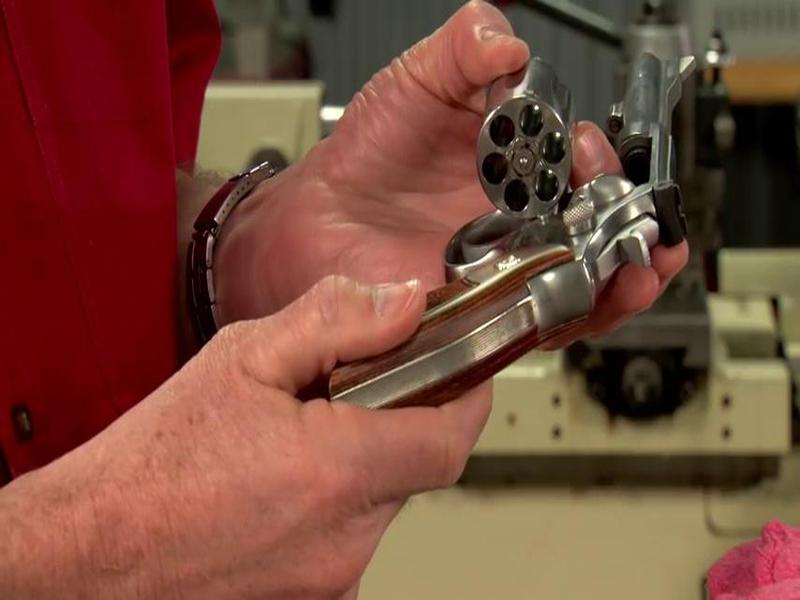Revolver: (301, 31, 700, 461)
